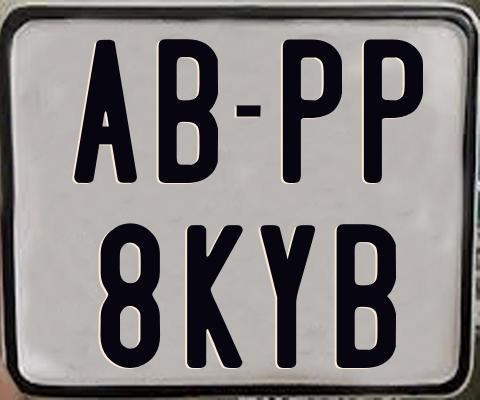8: (98, 221, 160, 370)
A: (73, 40, 142, 187)
B: (336, 222, 401, 367), (158, 36, 221, 184)
K: (187, 224, 243, 370)
P: (282, 39, 347, 185), (364, 36, 423, 186)
Y: (259, 224, 319, 372)
